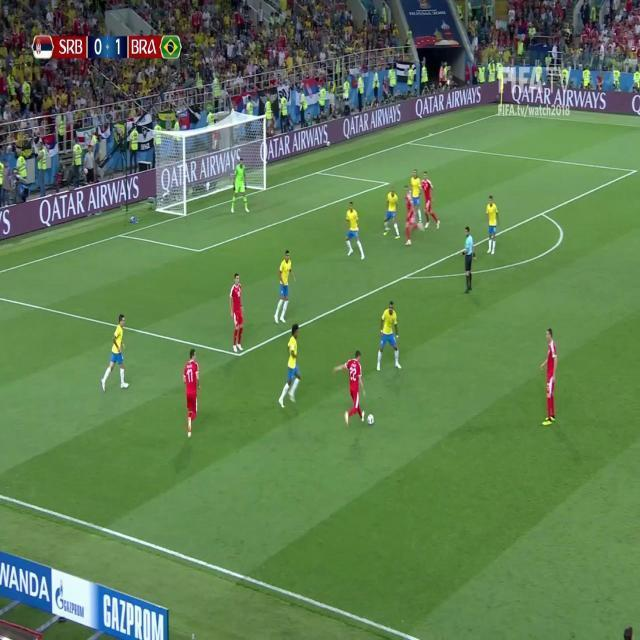ball: (366, 410, 376, 429)
goalkeeper: (230, 158, 249, 220)
player: (97, 310, 133, 394), (534, 325, 561, 428), (275, 321, 305, 411), (335, 347, 366, 427), (180, 347, 204, 440), (373, 299, 402, 375), (227, 269, 248, 358), (273, 248, 296, 323), (343, 194, 365, 264), (422, 170, 442, 233), (482, 193, 500, 257), (401, 185, 418, 248), (384, 186, 400, 243), (410, 169, 422, 227)
referee: (459, 222, 479, 294)
